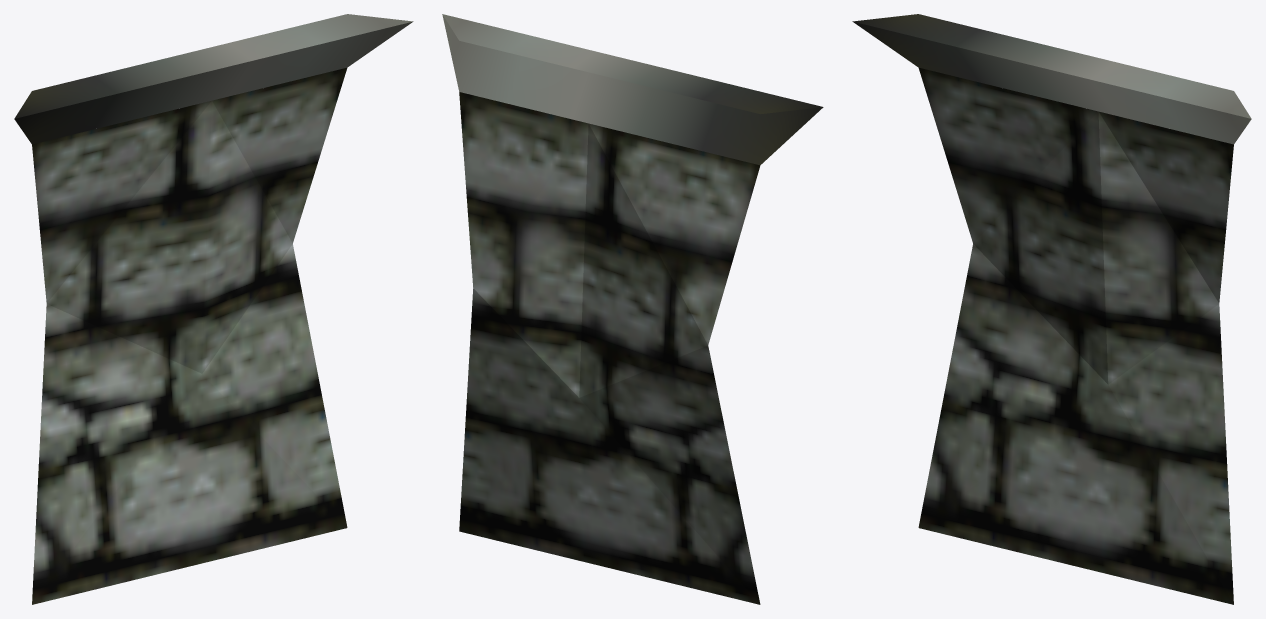
Rendered from W_A1_x [GrüneSteine]_33.glb.
The picture shows the model from 3 angles, left to right: view 1: azimuth 30°, elevation 25°; view 2: azimuth 150°, elevation 25°; view 3: azimuth 330°, elevation 25°; orthographic projection. The views are drawn at different scales.
Parts seen in each view (by area): view 1: polySurfaceShape1201, polySurfaceShape1203; view 2: polySurfaceShape1201, polySurfaceShape1203; view 3: polySurfaceShape1201, polySurfaceShape1203.
Boxes of the visible parts, x1=… form: polySurfaceShape1201: x1=32, y1=68, x2=347, y2=604; polySurfaceShape1203: x1=14, y1=14, x2=413, y2=144; polySurfaceShape1201: x1=459, y1=92, x2=760, y2=604; polySurfaceShape1203: x1=442, y1=14, x2=823, y2=165; polySurfaceShape1201: x1=918, y1=68, x2=1233, y2=604; polySurfaceShape1203: x1=852, y1=14, x2=1251, y2=144.
Bounding box in the file's own units: 0.3166 × 0.3891 × 0.0607.
2 materials, 2 textured.
